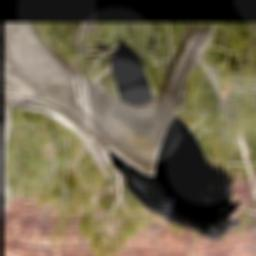Crow: (107, 38, 244, 240)
